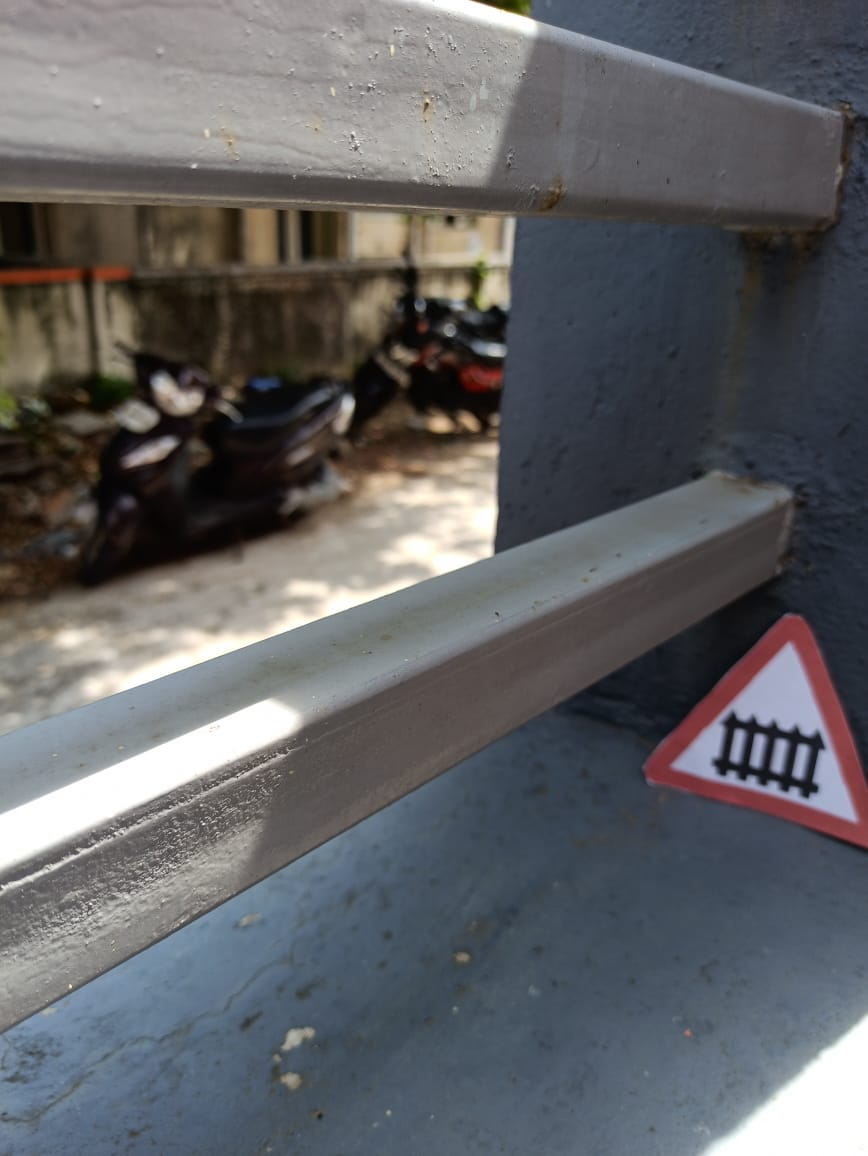GUARDED LEVEL CROSSING: (644, 576, 868, 852)
